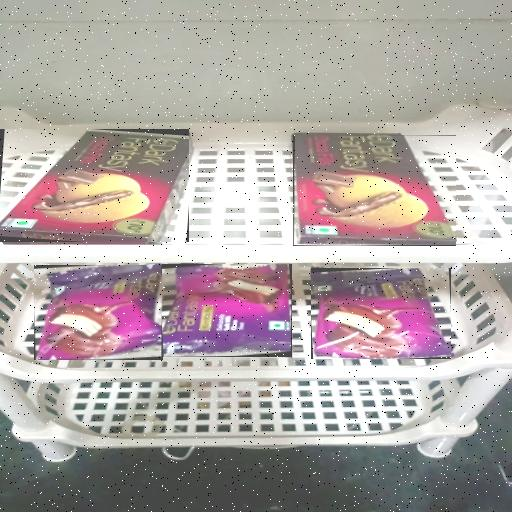Choco Fills: (0, 129, 189, 242), (293, 135, 456, 246)
Choco Pie: (311, 268, 451, 359), (34, 265, 163, 360), (162, 264, 292, 357)
